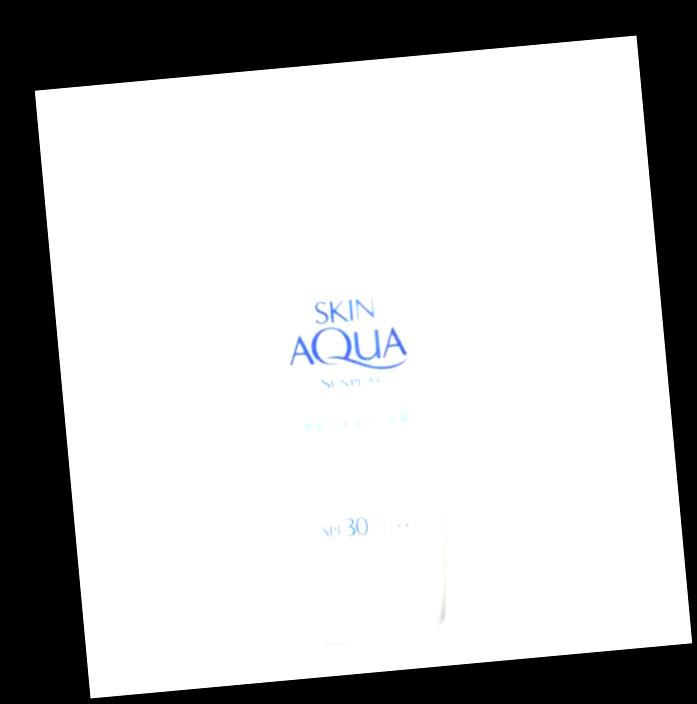cosmetic: (240, 102, 459, 635)
